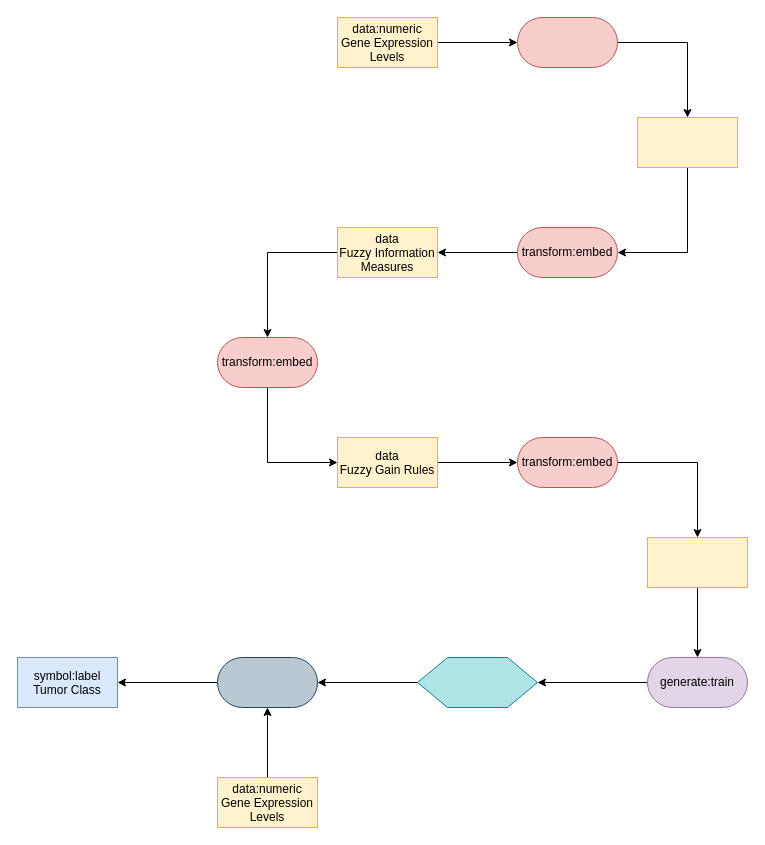
This 765x845 diagram has some shape labels left out. The shapes that lost their labels are listed below. From the top down, each one's box as (x1, y1, x2, y2) in pixels, then its label:
(516, 16, 618, 68): transform:embed Fuzzy Rough Set
(636, 116, 738, 168): data Fuzzy Equivalence Relations and Lower + Upper Approx.
(646, 536, 748, 588): data Selected Attributes
(216, 656, 318, 708): infer:deduce
(416, 656, 538, 708): model:semantic
